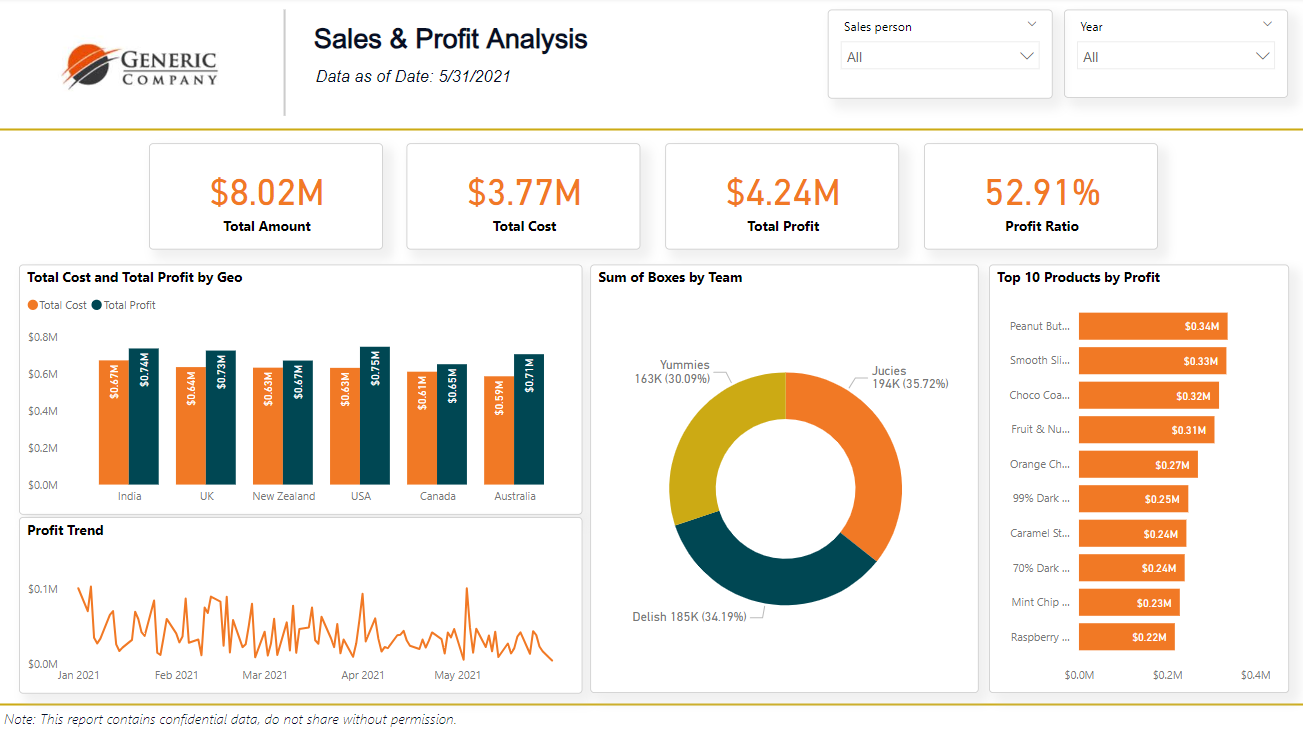

This screenshot's page, from the dashboard's own definition file:
{"tool":"powerbi","page":{"name":"Page 1","canvas":[1280,720],"ordinal":0},"visuals":[{"type":"card","fields":{"Values":["sales.Total Amount"]},"box":[146.7,143.1,228.7,103.9],"z":0},{"type":"card","fields":{"Values":["sales.Total Cost"]},"box":[398.6,143.1,228.7,103.9],"z":1000},{"type":"card","fields":{"Values":["sales.Total Profit"]},"box":[651.8,143.1,228.7,103.9],"z":2000},{"type":"card","fields":{"Values":["sales.Profit Ratio"]},"box":[904.9,143.1,228.7,103.9],"z":3000},{"type":"shape","box":[0,123.5,1280,12.2],"z":4000},{"type":"shape","box":[0,686,1280,12.2],"z":5000},{"type":"image","box":[0,0,279.9,127.6],"z":6000},{"type":"shape","box":[263.5,12.3,32.9,104.3],"z":7000},{"type":"textbox","box":[293.5,15.9,297.1,55],"z":8000},{"type":"slicer","fields":{"Values":["people.Sales person"]},"box":[810.7,12.2,220.1,86.8],"z":9000},{"type":"slicer","fields":{"Values":["sales.Date.Variation.Date Hierarchy.Year"]},"box":[1041.6,12.2,219.6,86.4],"z":10000},{"type":"clusteredColumnChart","fields":{"Category":["locations.Geo"],"Y":["sales.Total Cost","sales.Total Profit"]},"box":[19.6,261.7,551.5,244.6],"z":11000},{"type":"lineChart","title":"Profit Trend","fields":{"Y":["sales.Total Profit"],"Category":["sales.Date.Variation.Date Hierarchy.Year","sales.Date.Variation.Date Hierarchy.Quarter","sales.Date.Variation.Date Hierarchy.Month","sales.Date.Variation.Date Hierarchy.Day"]},"box":[19.6,508.7,551.5,172.4],"z":12000},{"type":"donutChart","fields":{"Category":["people.Team"],"Y":["Sum(sales.Boxes)"]},"box":[578.4,261.7,380.3,419.4],"z":13000},{"type":"barChart","title":"Top 10 Products by Profit","fields":{"Y":["sales.Total Profit"],"Category":["sales.Product"]},"box":[968.5,261.7,293.5,419.4],"z":14000},{"type":"textbox","box":[0,690.9,501.4,29.3],"z":15000},{"type":"card","fields":{"Values":["sales.Data as of Date"]},"box":[295.9,64.8,218.9,28.1],"z":16000}]}

Visuals, with their boxes in screenshot pixels (x1, y1, x2, y2), scaled from the page's 1280x720 canvas onto the 1303x731 screenshot:
card - sales.Total Amount: box=[149, 145, 382, 251]
card - sales.Total Cost: box=[406, 145, 639, 251]
card - sales.Total Profit: box=[664, 145, 896, 251]
card - sales.Profit Ratio: box=[921, 145, 1154, 251]
shape: box=[0, 125, 1302, 138]
shape: box=[0, 696, 1302, 709]
image: box=[0, 0, 285, 130]
shape: box=[268, 12, 302, 118]
textbox: box=[299, 16, 601, 72]
slicer - people.Sales person: box=[825, 12, 1049, 101]
slicer - sales.Date.Variation.Date Hierarchy.Year: box=[1060, 12, 1284, 100]
clusteredColumnChart - locations.Geo x sales.Total Cost: box=[20, 266, 581, 514]
"Profit Trend" lineChart: box=[20, 516, 581, 692]
donutChart - people.Team x Sum(sales.Boxes): box=[589, 266, 976, 692]
"Top 10 Products by Profit" barChart: box=[986, 266, 1285, 692]
textbox: box=[0, 701, 510, 730]
card - sales.Data as of Date: box=[301, 66, 524, 94]
